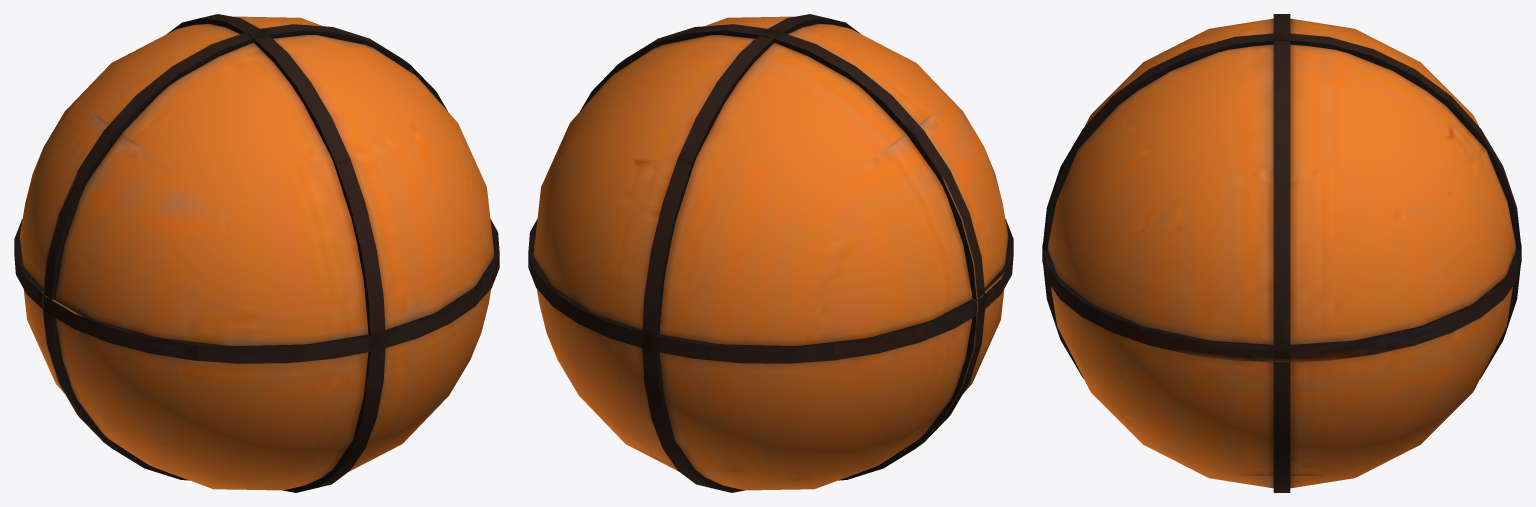
Rendered from balon.glb.
3 views of the same model, side by side, from view 1: azimuth 30°, elevation 25°; view 2: azimuth 150°, elevation 25°; view 3: azimuth 270°, elevation 25° (orthographic).
Parts seen in each view (by area): view 1: balon; view 2: balon; view 3: balon.
Boxes of the visible parts, x1,y1,x2,y2 form: balon: (14,14,499,492); balon: (528,14,1013,492); balon: (1042,14,1521,492).
Size of the model in its own units: 0.852 by 0.852 by 0.852.
1 material, 1 textured.
